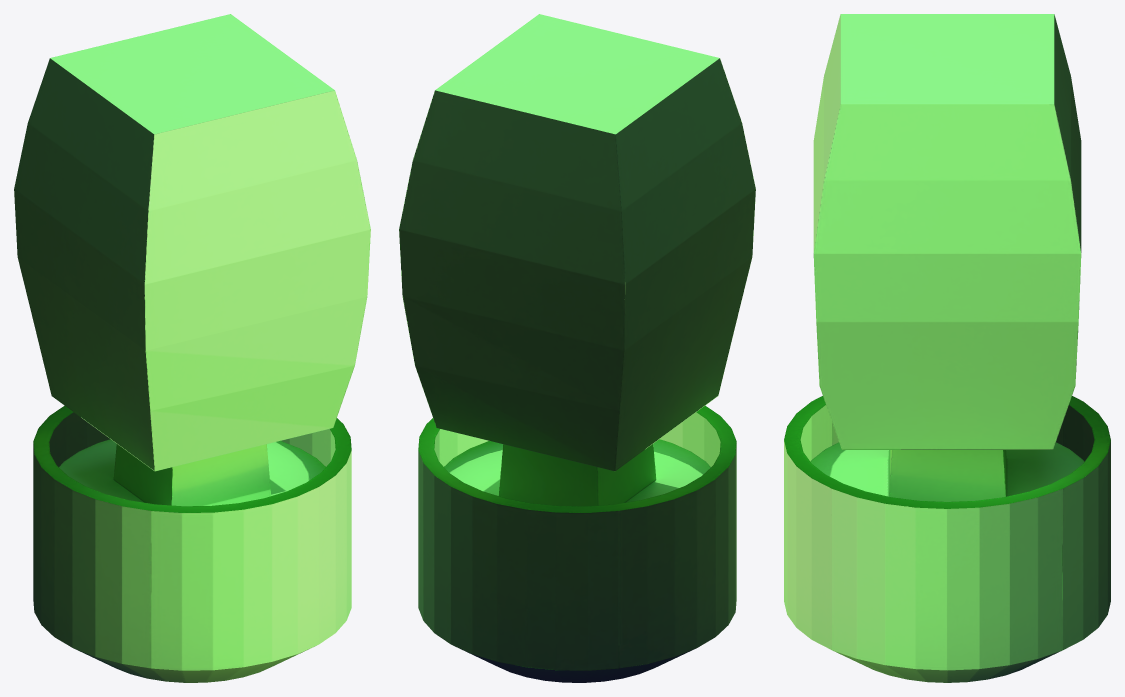
Rendered from Plant.glb.
3 renders of one model, left to right at view 1: azimuth 30°, elevation 25°; view 2: azimuth 150°, elevation 25°; view 3: azimuth 270°, elevation 25°, orthographic. The views are drawn at different scales.
Visible parts, largest first — view 1: Plant; view 2: Plant; view 3: Plant.
Boxes of the visible parts, x1=… form: Plant: x1=14, y1=14, x2=370, y2=682; Plant: x1=399, y1=14, x2=755, y2=682; Plant: x1=784, y1=14, x2=1110, y2=682.
Size of the model in its own units: 9.98 by 19.52 by 9.98.
1 material, 1 textured.
